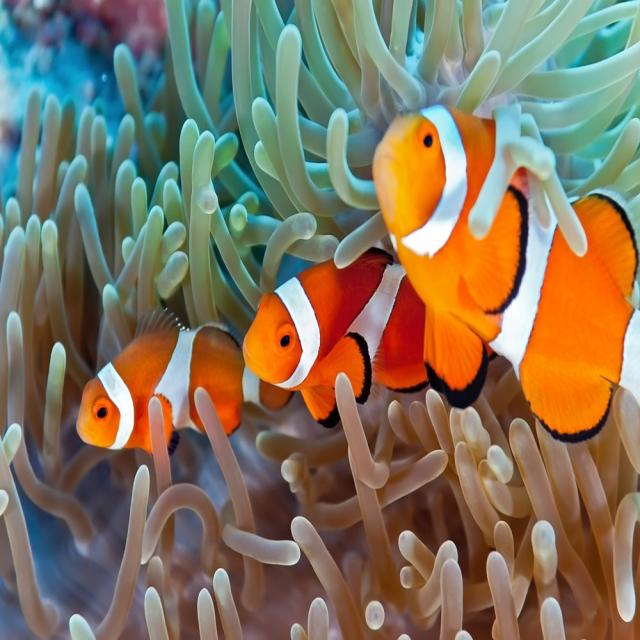ClownFish: (371, 102, 640, 435), (243, 232, 435, 408), (79, 313, 291, 456)
